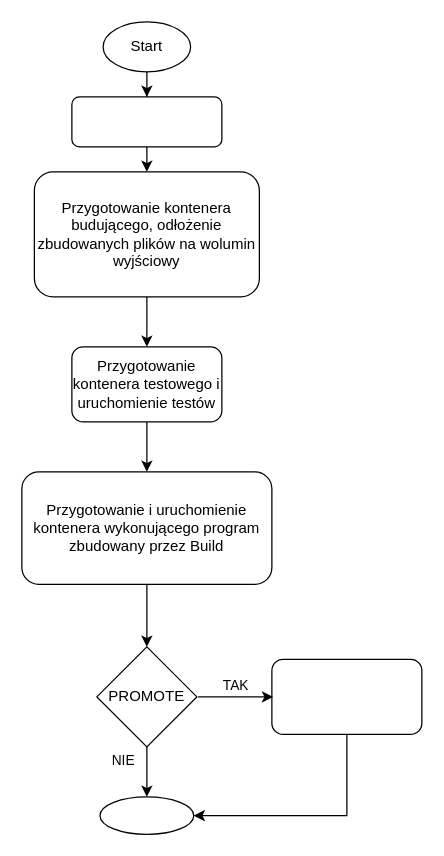
Image size: 444x856. Some labels were removed from this diagram. Each missing label, with the centre of its shape:
"Przygotowanie folderów dla woluminów" goes at point 146,121.
"Publikowanie artefaktu" goes at point 346,696.
"Stop" goes at point 146,815.
